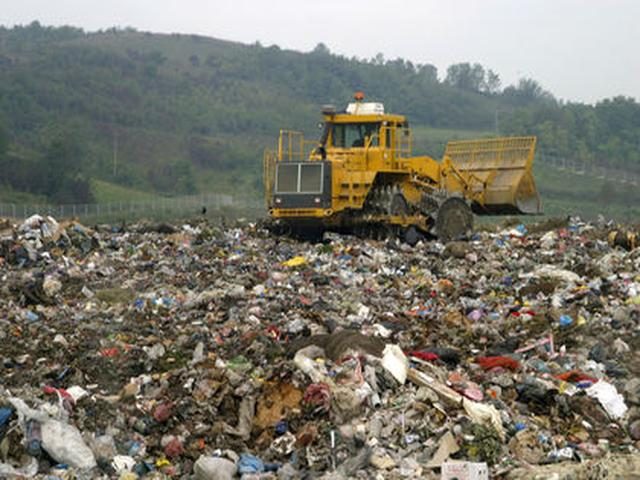garbage: (24, 246, 629, 468)
